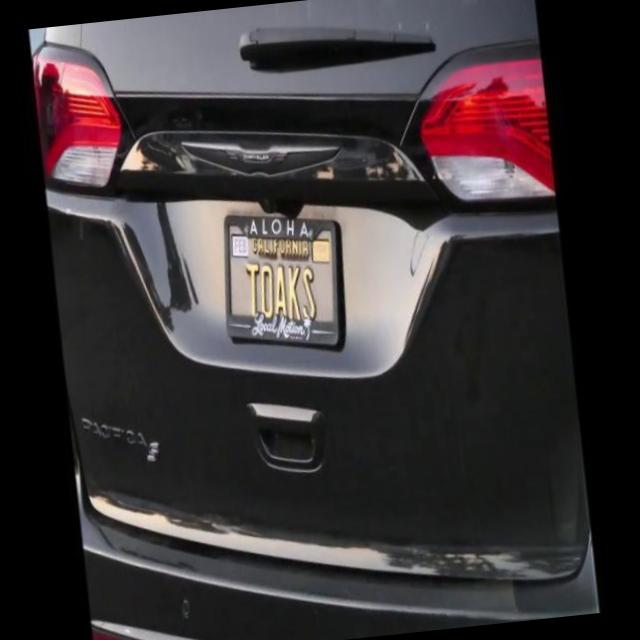LicensePlate: (216, 202, 350, 362)
